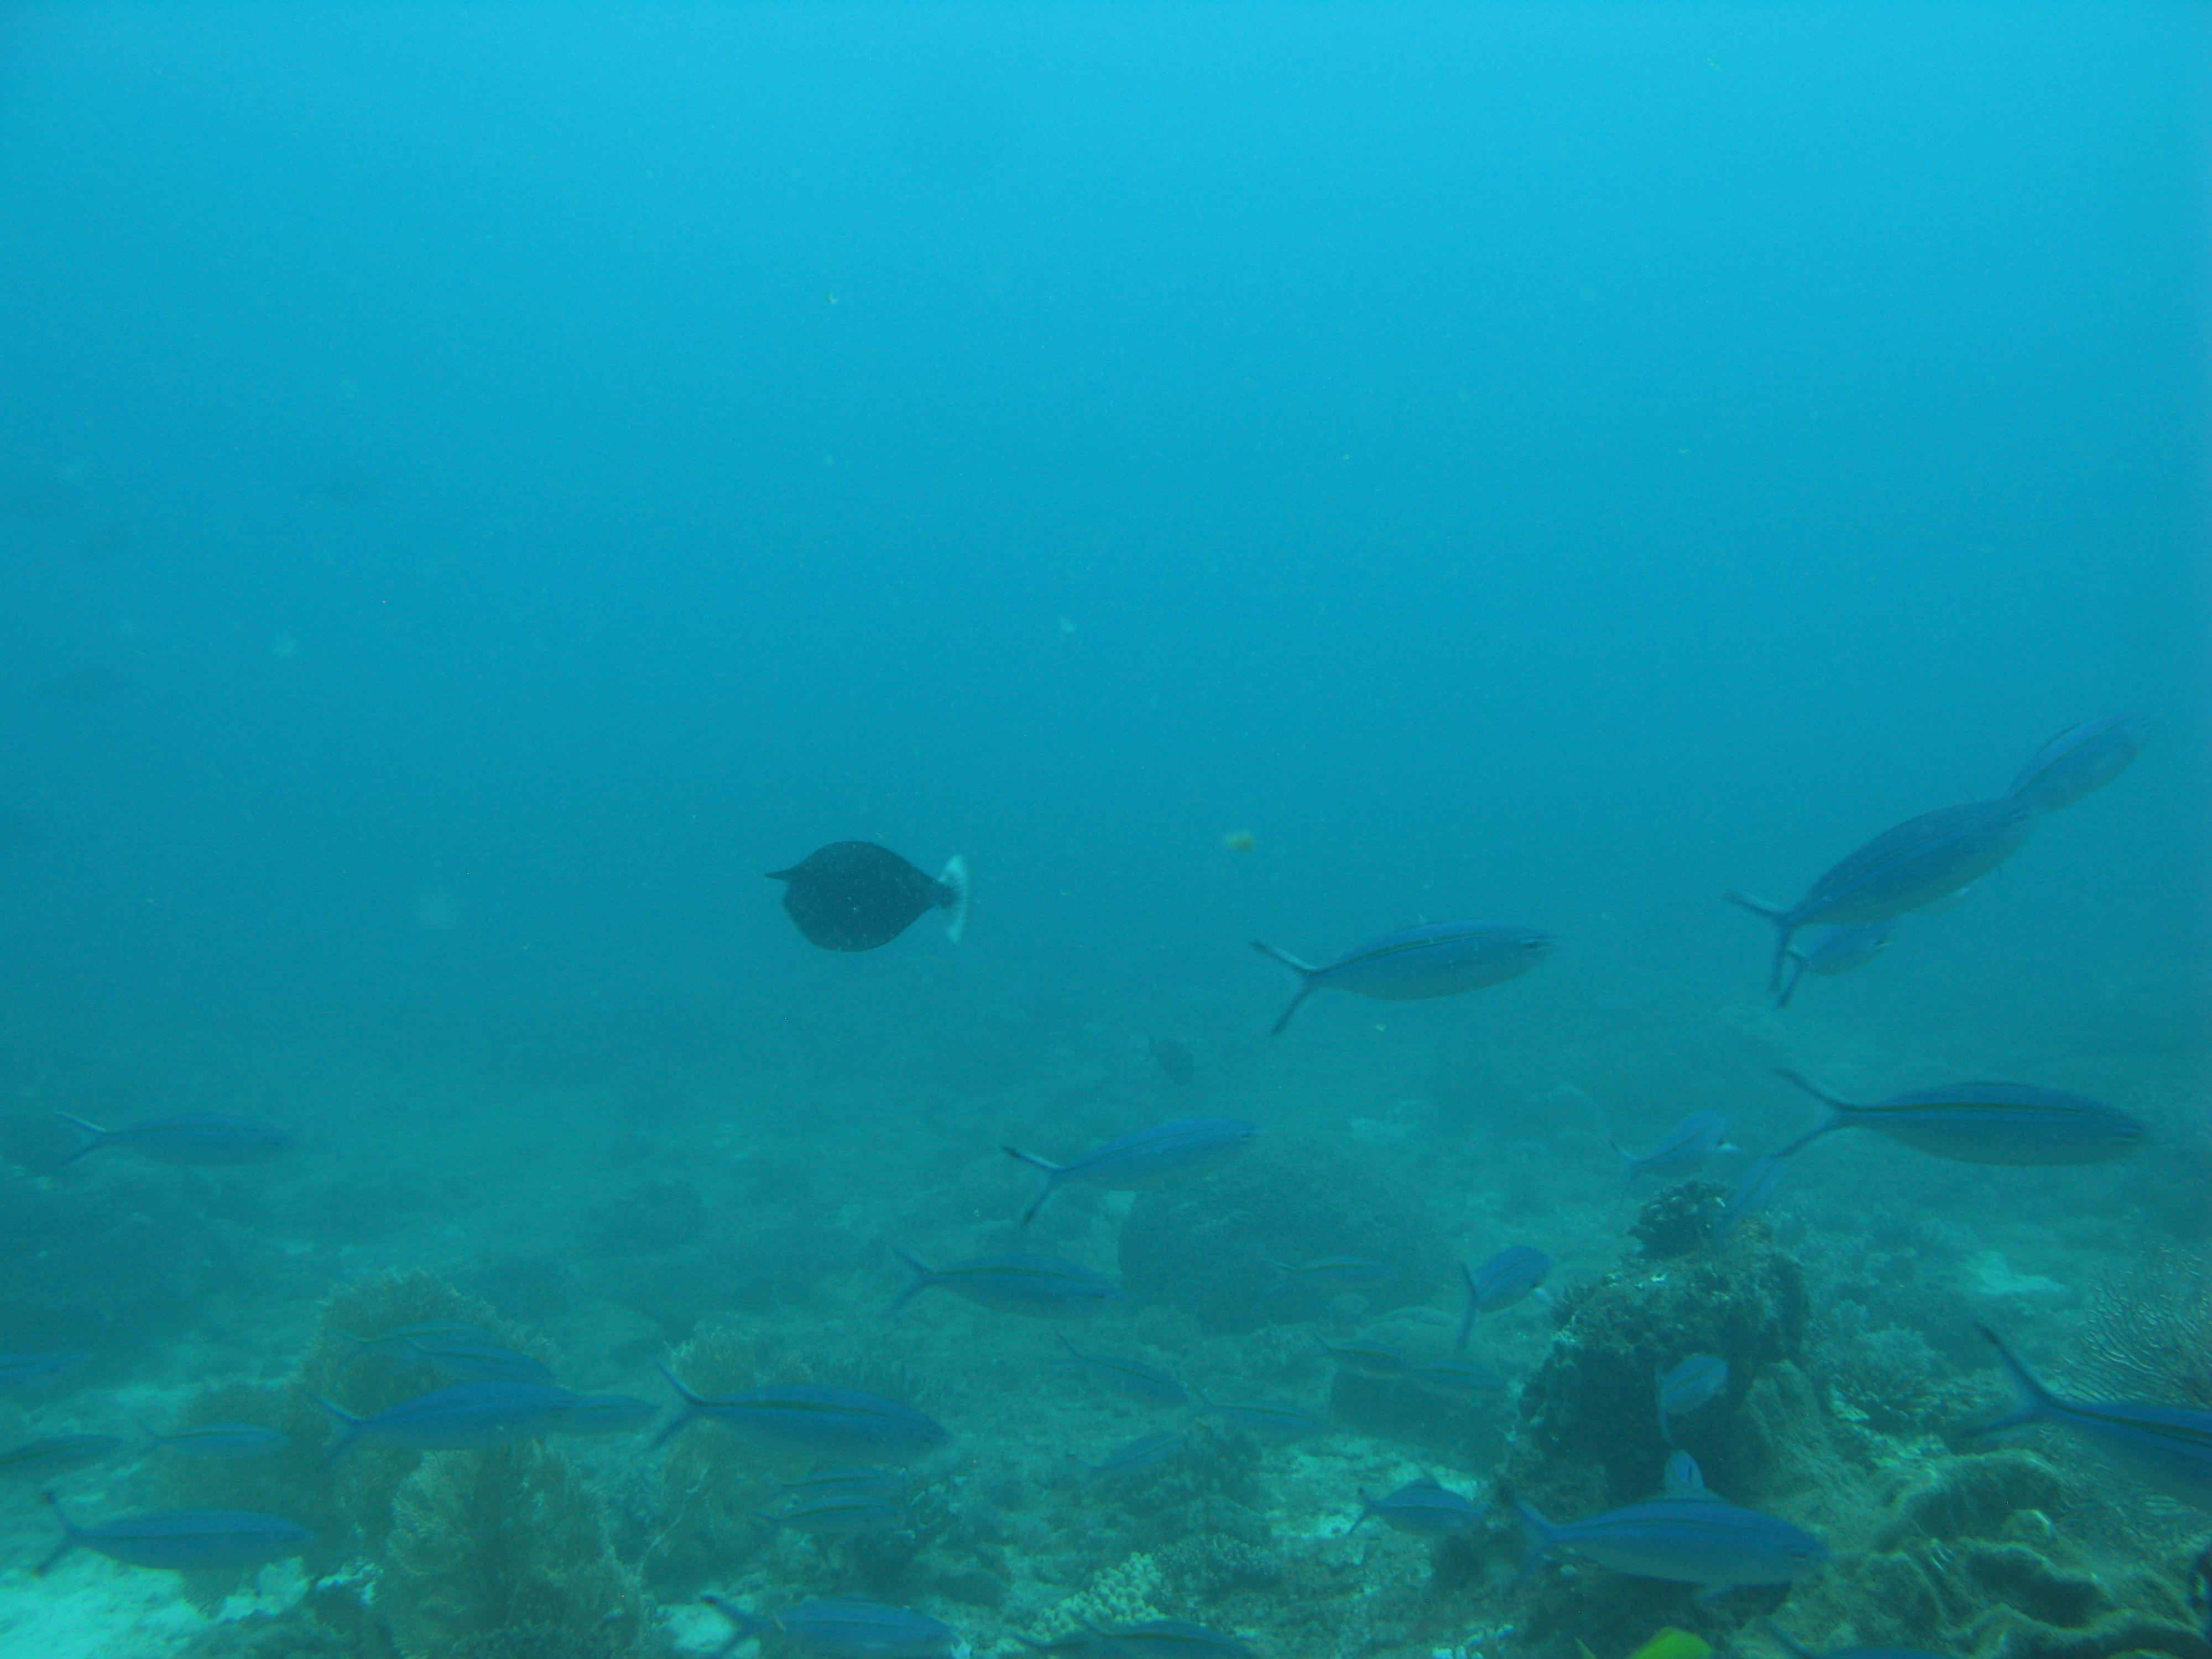Naso brevicordatus: (691, 812, 1054, 995)
